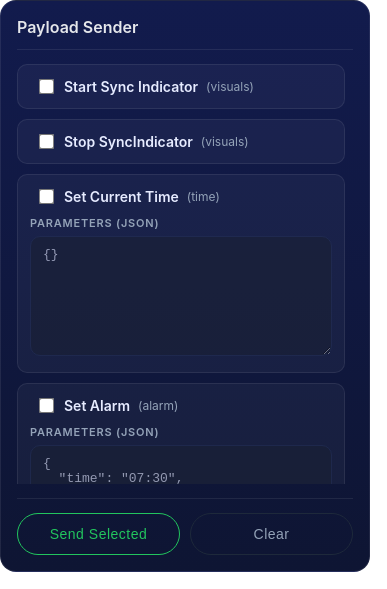
Test: DevTools › Payload Selection and Sending › clears the selection, custom bytes and status
This screenshot has width=387, height=589.
Click the checkbox labelled "Start Sync Indicator (visuals)" at [46, 86], box [39,79,54,94]
(page scrolled)
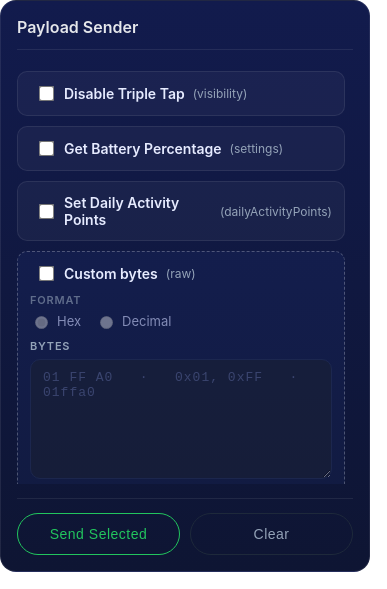
Click the checkbox labelled "Custom bytes (raw)" at [46, 274], box [39,266,54,281]
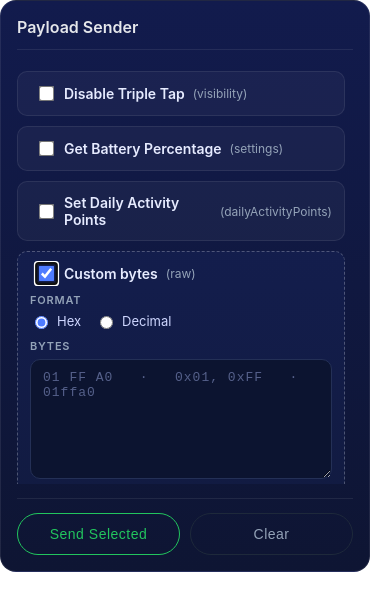
Type "01 FF" into the text box labelled "Bytes" at [181, 419], box [30,359,332,479]
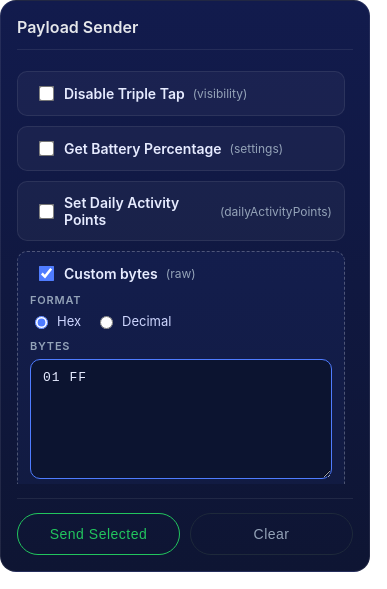
Click the button "Clear" at [272, 534], box [190,513,353,555]
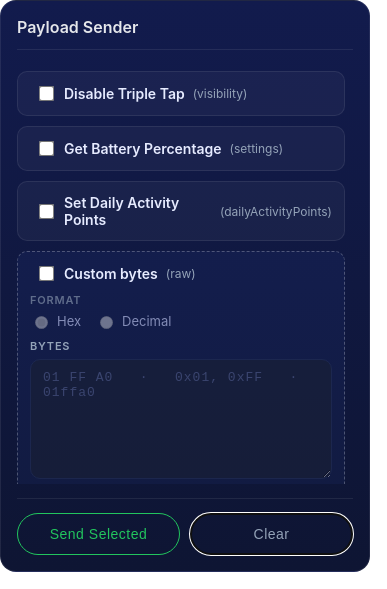
Check: the checkbox labelled "Custom bytes (raw)" is not checked, box [39,266,54,281]
Check: the text box labelled "Bytes" is empty, box [30,359,332,479]
